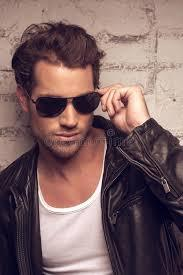sunglasses: (31, 90, 120, 119)
